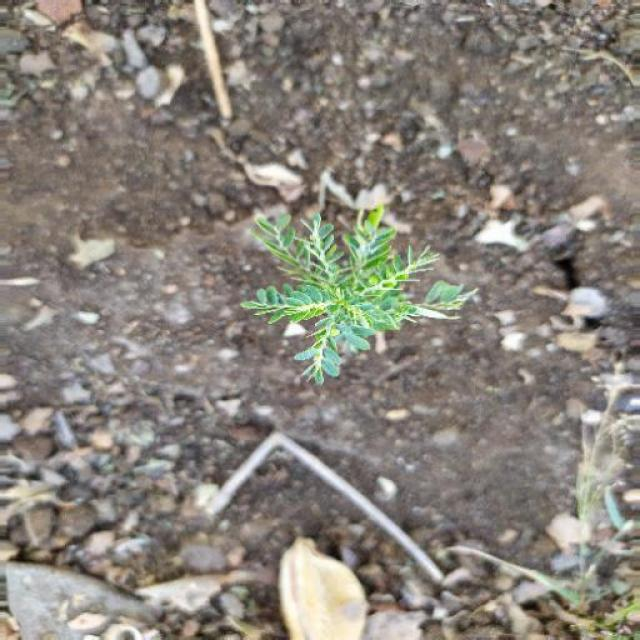weed: (242, 189, 476, 381)
